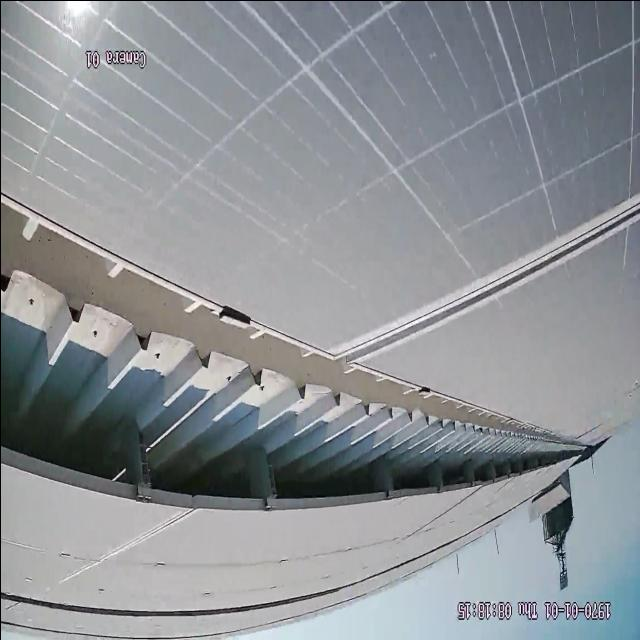interior panel: (337, 196, 636, 363), (57, 514, 189, 586)
outher panel: (0, 190, 589, 506)
